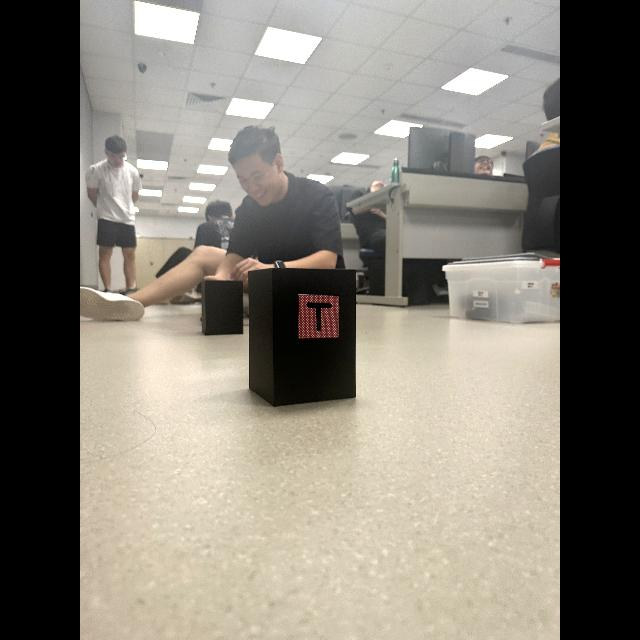T: (306, 303, 333, 331)
